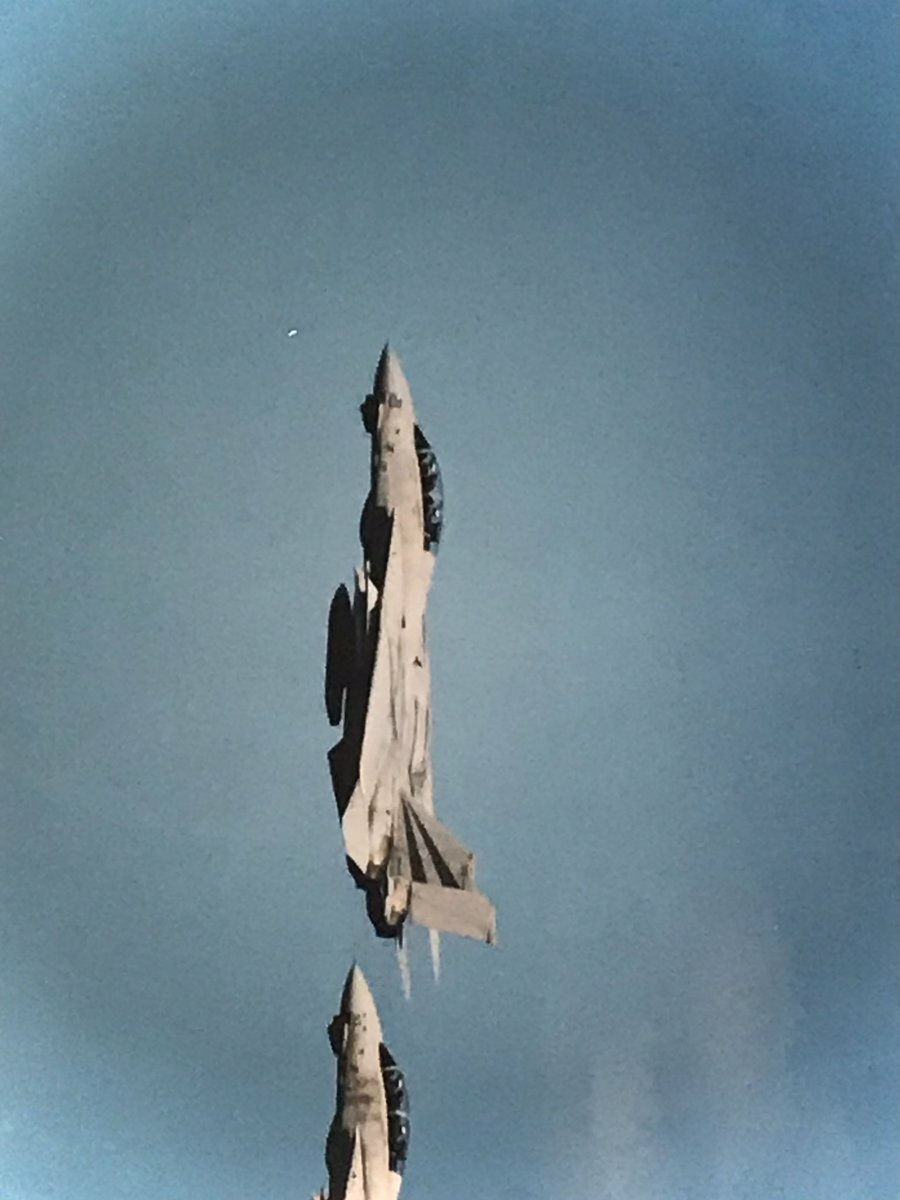F14: (324, 338, 498, 1002), (305, 955, 412, 1200)
